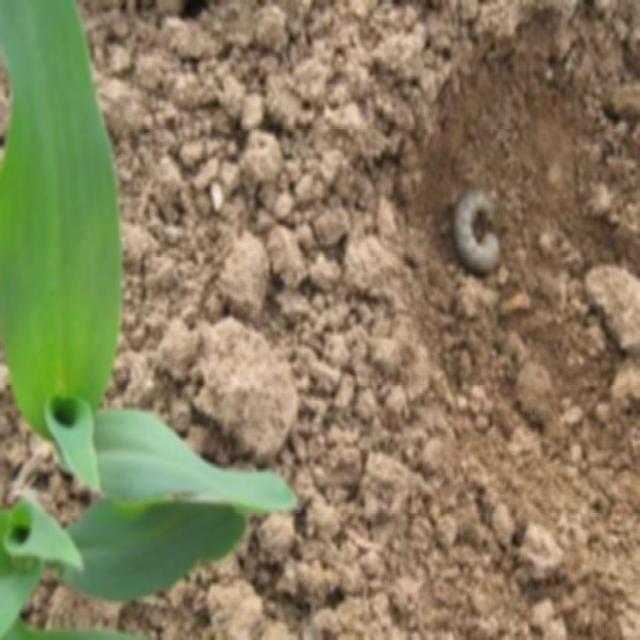black cutworm: (450, 187, 511, 278)
